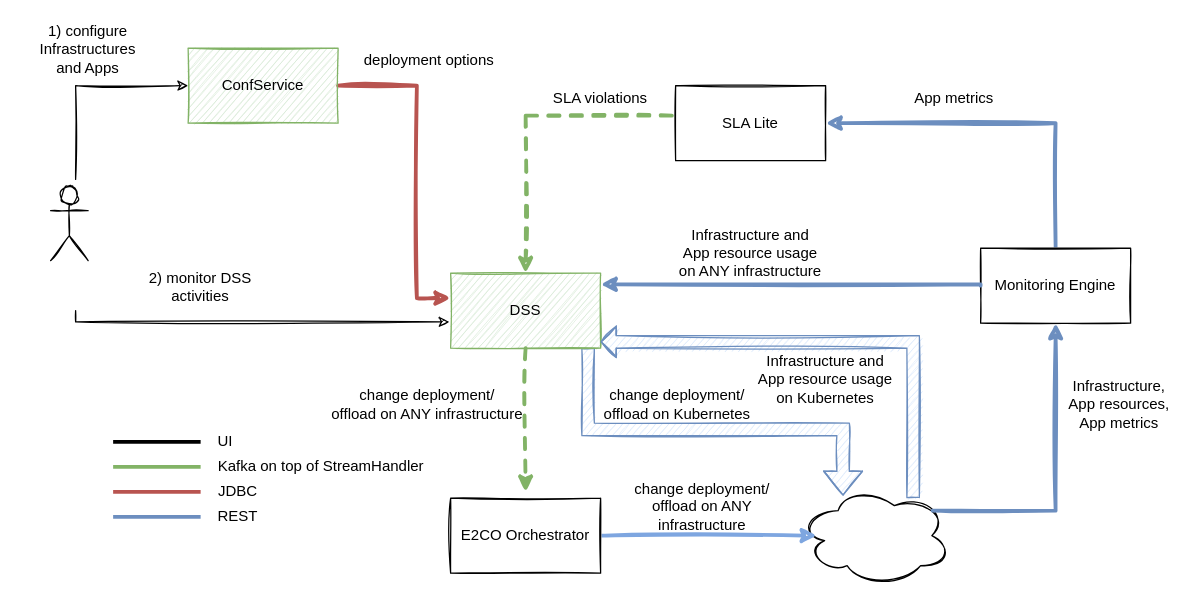
Image size: 1196x608. Some labels were removed from this diagram. The box of each missing label's shape, as (x1, y1, x2, y2) in pixels:
Infrastructure: (799, 484, 951, 586)
SaaS provider: (49, 184, 88, 261)
